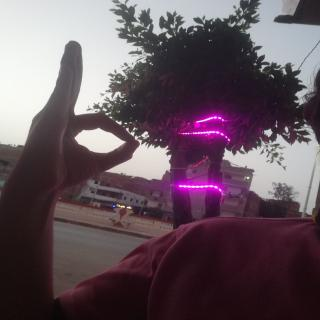Space: (21, 37, 141, 189)
